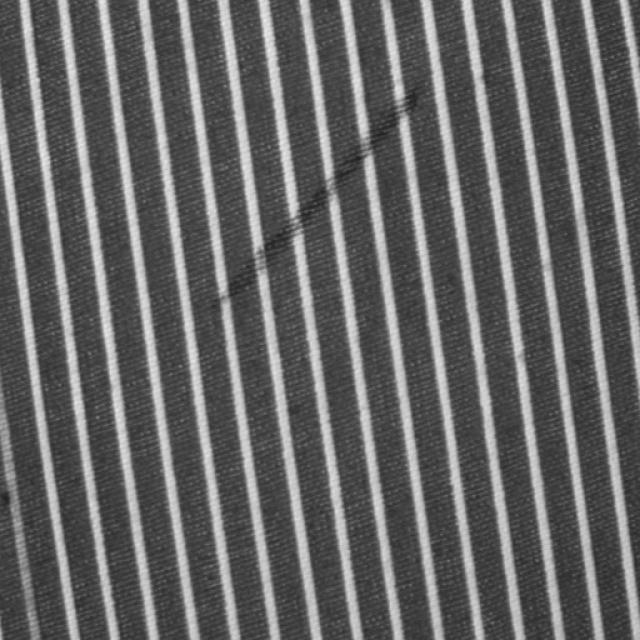Stain-Defect: (196, 78, 426, 323)
